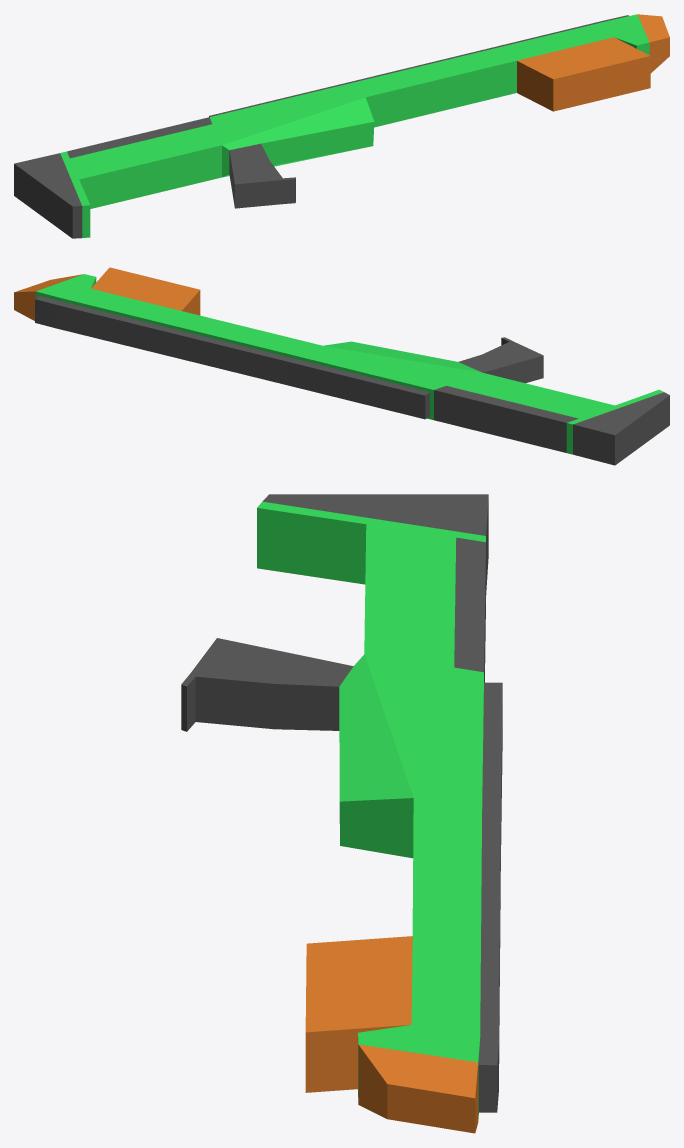
The model's file is Breacher.fbx.
The picture shows the model from 3 angles, top to bottom: view 1: azimuth 30°, elevation 25°; view 2: azimuth 150°, elevation 25°; view 3: azimuth 270°, elevation 25°; orthographic projection. The views are drawn at different scales.
Visible parts, largest first — view 1: Cube; view 2: Cube; view 3: Cube.
Boxes of the visible parts, box(x1,y1,x2,y2) form: Cube: box(14, 14, 669, 238); Cube: box(14, 267, 669, 465); Cube: box(181, 494, 502, 1133).
Bounding box in the file's own units: 1271 × 60.78 × 293.
